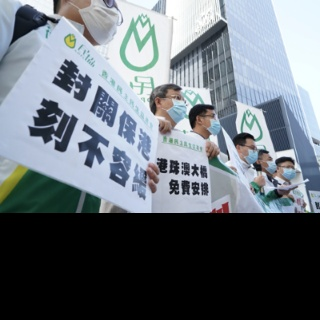with_mask: (78, 0, 120, 46), (164, 92, 188, 124), (204, 112, 222, 136), (242, 144, 260, 165), (280, 163, 297, 180), (263, 156, 277, 174)
